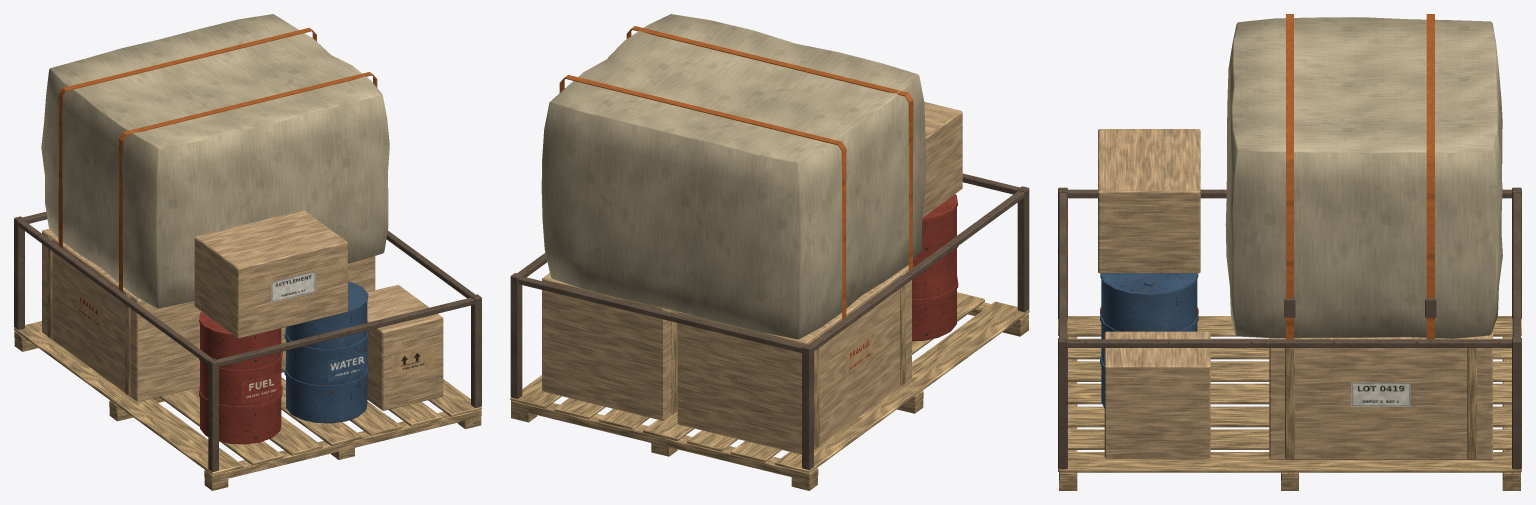
The model's file is cargo_stack_large_sand.gltf.
3 views of the same model, side by side, from view 1: azimuth 30°, elevation 25°; view 2: azimuth 150°, elevation 25°; view 3: azimuth 270°, elevation 25° (orthographic). The views are drawn at different scales.
Visible parts, largest first — view 1: StackLarge_Body; view 2: StackLarge_Body; view 3: StackLarge_Body.
Part boxes in pixels (x1,y1,x2,y2): StackLarge_Body: (14, 14, 481, 490); StackLarge_Body: (510, 14, 1029, 490); StackLarge_Body: (1058, 14, 1521, 490).
Bounding box in the file's own units: 2.2 × 2.2 × 2.8.
8 materials, 8 textured.
